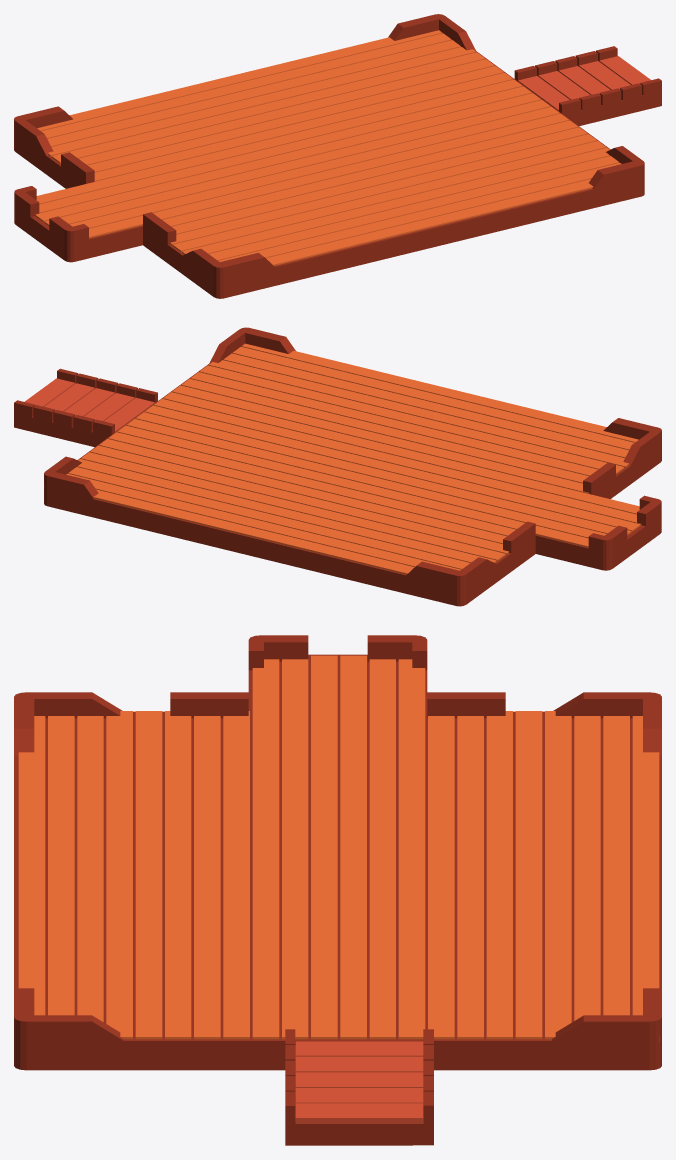
The model's file is Land.fbx.
The picture shows the model from 3 angles, top to bottom: view 1: azimuth 30°, elevation 25°; view 2: azimuth 150°, elevation 25°; view 3: azimuth 270°, elevation 25°; orthographic projection. The views are drawn at different scales.
Visible parts, largest first — view 1: Wooden floor, Base, Wooden bridge; view 2: Wooden floor, Base, Wooden bridge; view 3: Wooden floor, Base, Wooden bridge.
Part boxes in pixels (x1,y1,x2,y2): Wooden floor: (35,30,621,265); Base: (14,14,644,298); Wooden bridge: (514,46,661,125); Wooden floor: (44,343,641,574); Base: (44,327,661,606); Wooden bridge: (14,368,157,447); Wooden floor: (18,655,659,1041); Base: (14,635,661,1070); Wooden bridge: (285,1029,433,1145).
Size of the model in its own units: 413 by 20.23 by 244.
